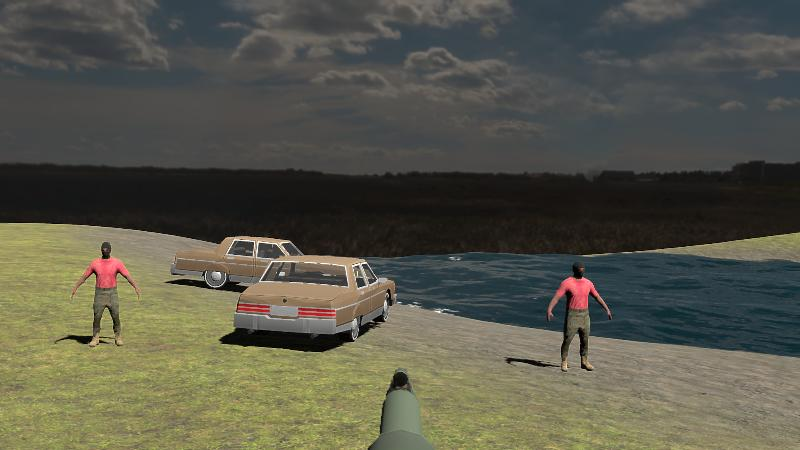Human: (71, 241, 139, 347), (548, 260, 611, 373)
car: (232, 255, 397, 347), (170, 234, 325, 293)
